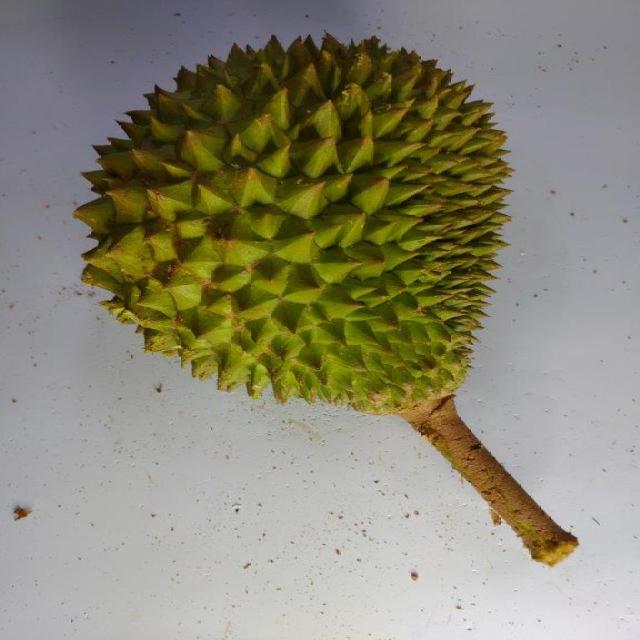immature: (74, 23, 512, 416)
